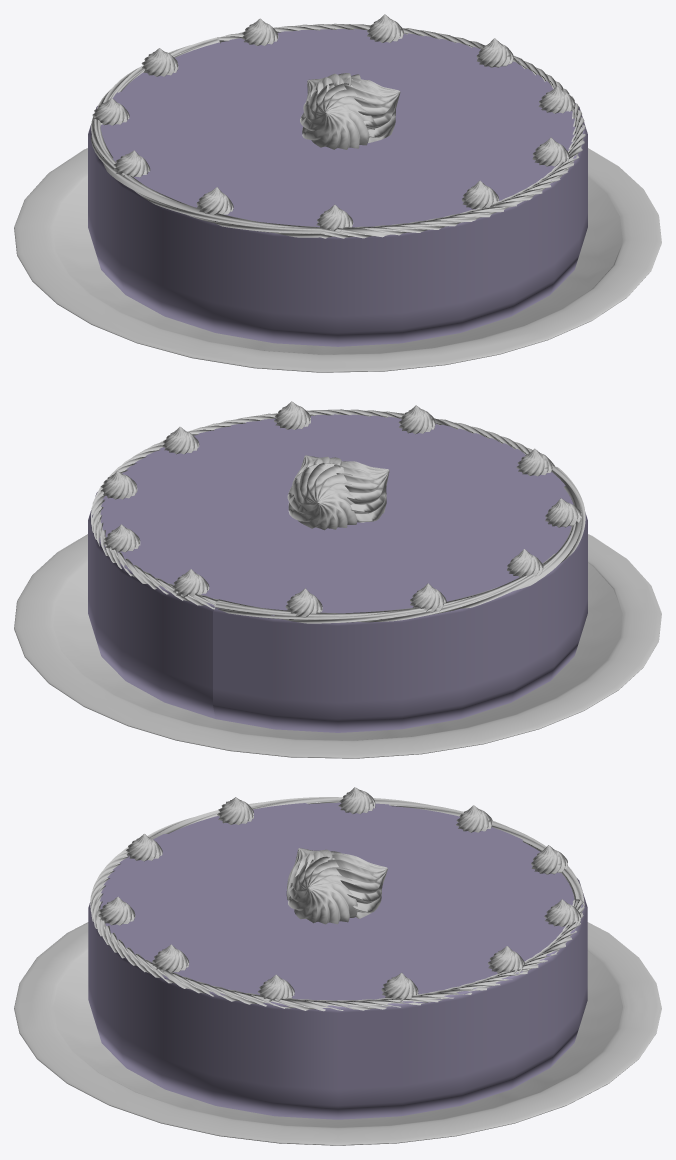
Rendered from taart.fbx.
3 renders of one model, top to bottom at view 1: azimuth 30°, elevation 25°; view 2: azimuth 150°, elevation 25°; view 3: azimuth 270°, elevation 25°, orthographic.
Visible parts, largest first — view 1: polySurface1; view 2: polySurface1; view 3: polySurface1.
Boxes of the visible parts, left/top/right/bottom form: polySurface1: left=14, top=14, right=661, bottom=372; polySurface1: left=14, top=401, right=661, bottom=758; polySurface1: left=14, top=787, right=661, bottom=1145.
Size of the model in its own units: 15.91 by 4.49 by 15.91.
